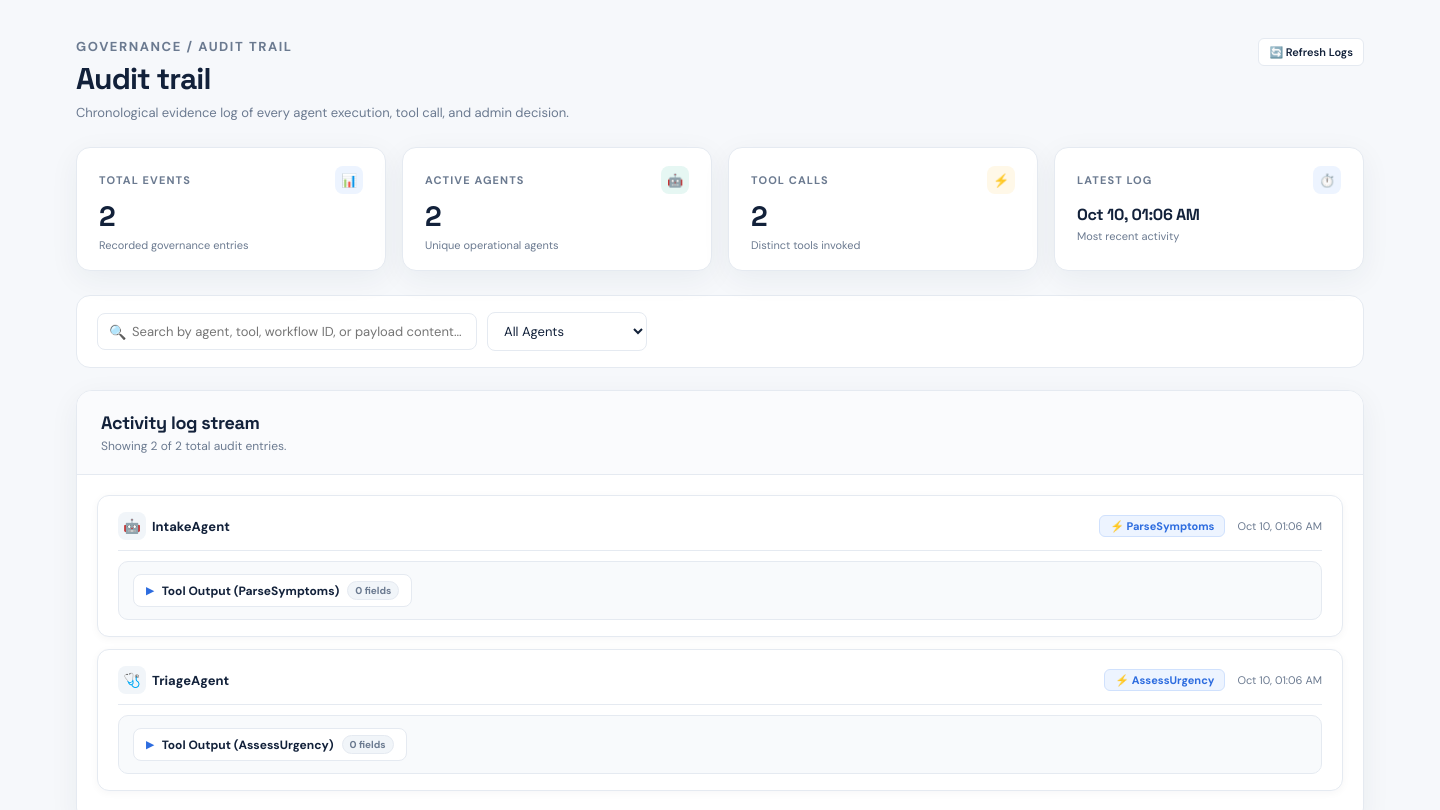
Test: AuditTrailTab › filters logs by search query
Check: the text "IntakeAgent" is shown, box x1=152 y1=518 x2=230 y2=534
Check: the text "TriageAgent" is shown, box x1=152 y1=672 x2=229 y2=688
In the field with placeholder "Search by agent, tool, workflow ID, or payload content...": (287,332) x1=97 y1=313 x2=477 y2=350, type "Triage"
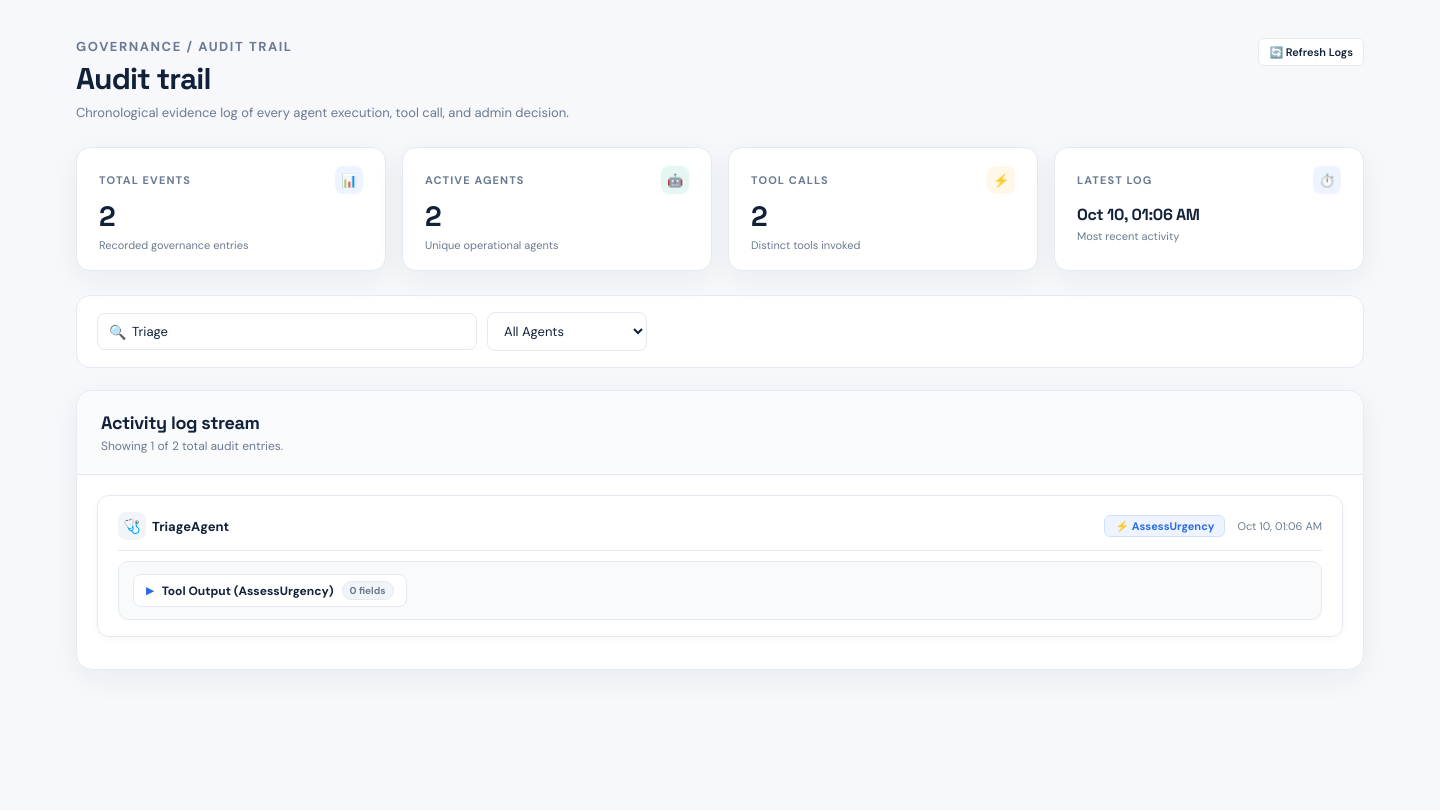
Check: the text "TriageAgent" is shown, box x1=152 y1=518 x2=229 y2=534
Check: the text "IntakeAgent" is gone
